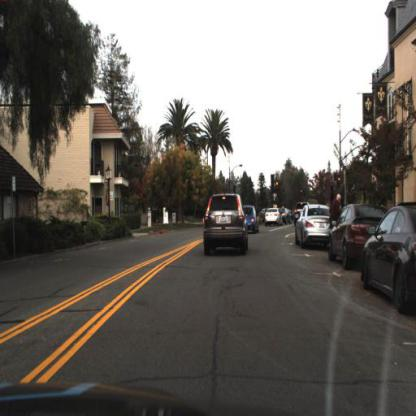car: (363, 202, 416, 320), (328, 205, 387, 269), (202, 194, 249, 254), (294, 202, 338, 249), (239, 206, 260, 236), (264, 208, 283, 228)
pedestrian: (329, 193, 343, 236)
